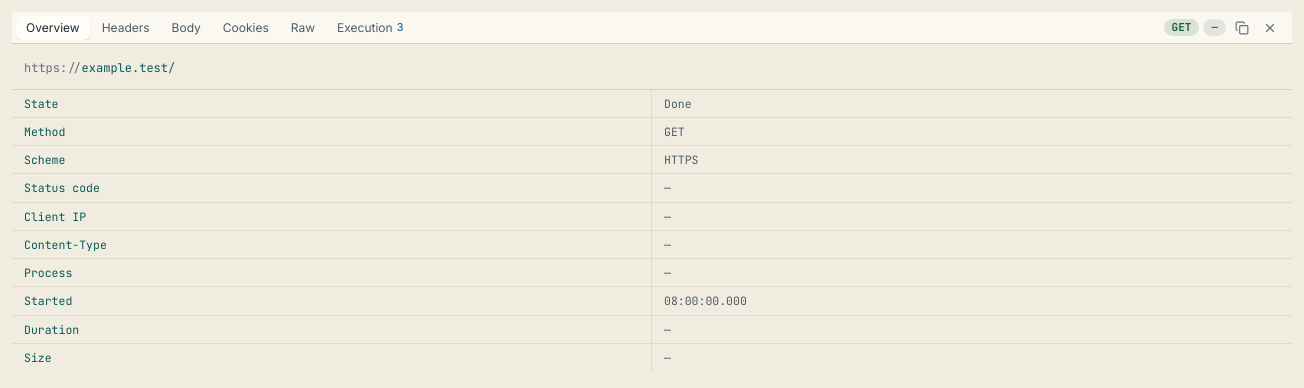
Scenario: 英文界面展示规则与插件记录
The image size is (1304, 388).
Click the button "Execution 3" at (370, 28), box [327,16,414,40]
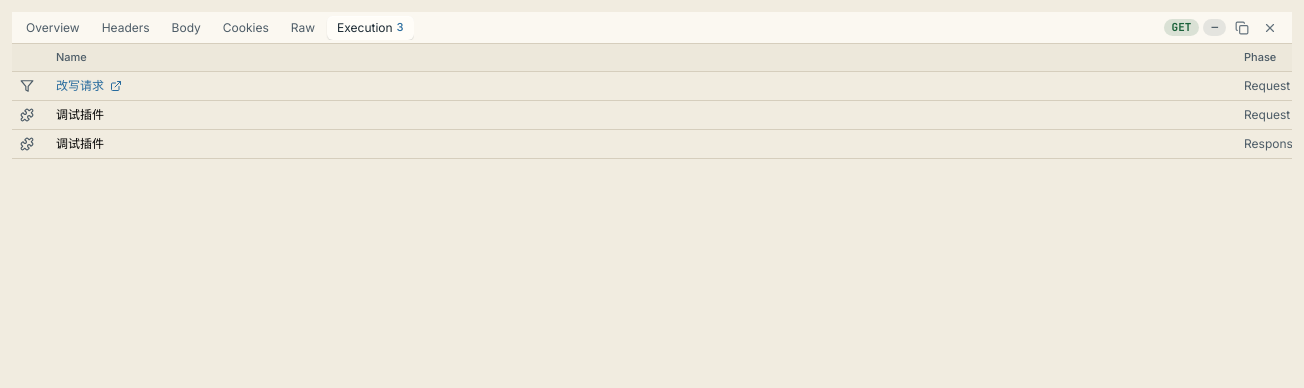
Expected: the cell named "Rule" is shown, [12,72,44,100]
Expected: the number of cells named "Plugin" is 2, [12,100,44,130]; [12,130,44,158]
